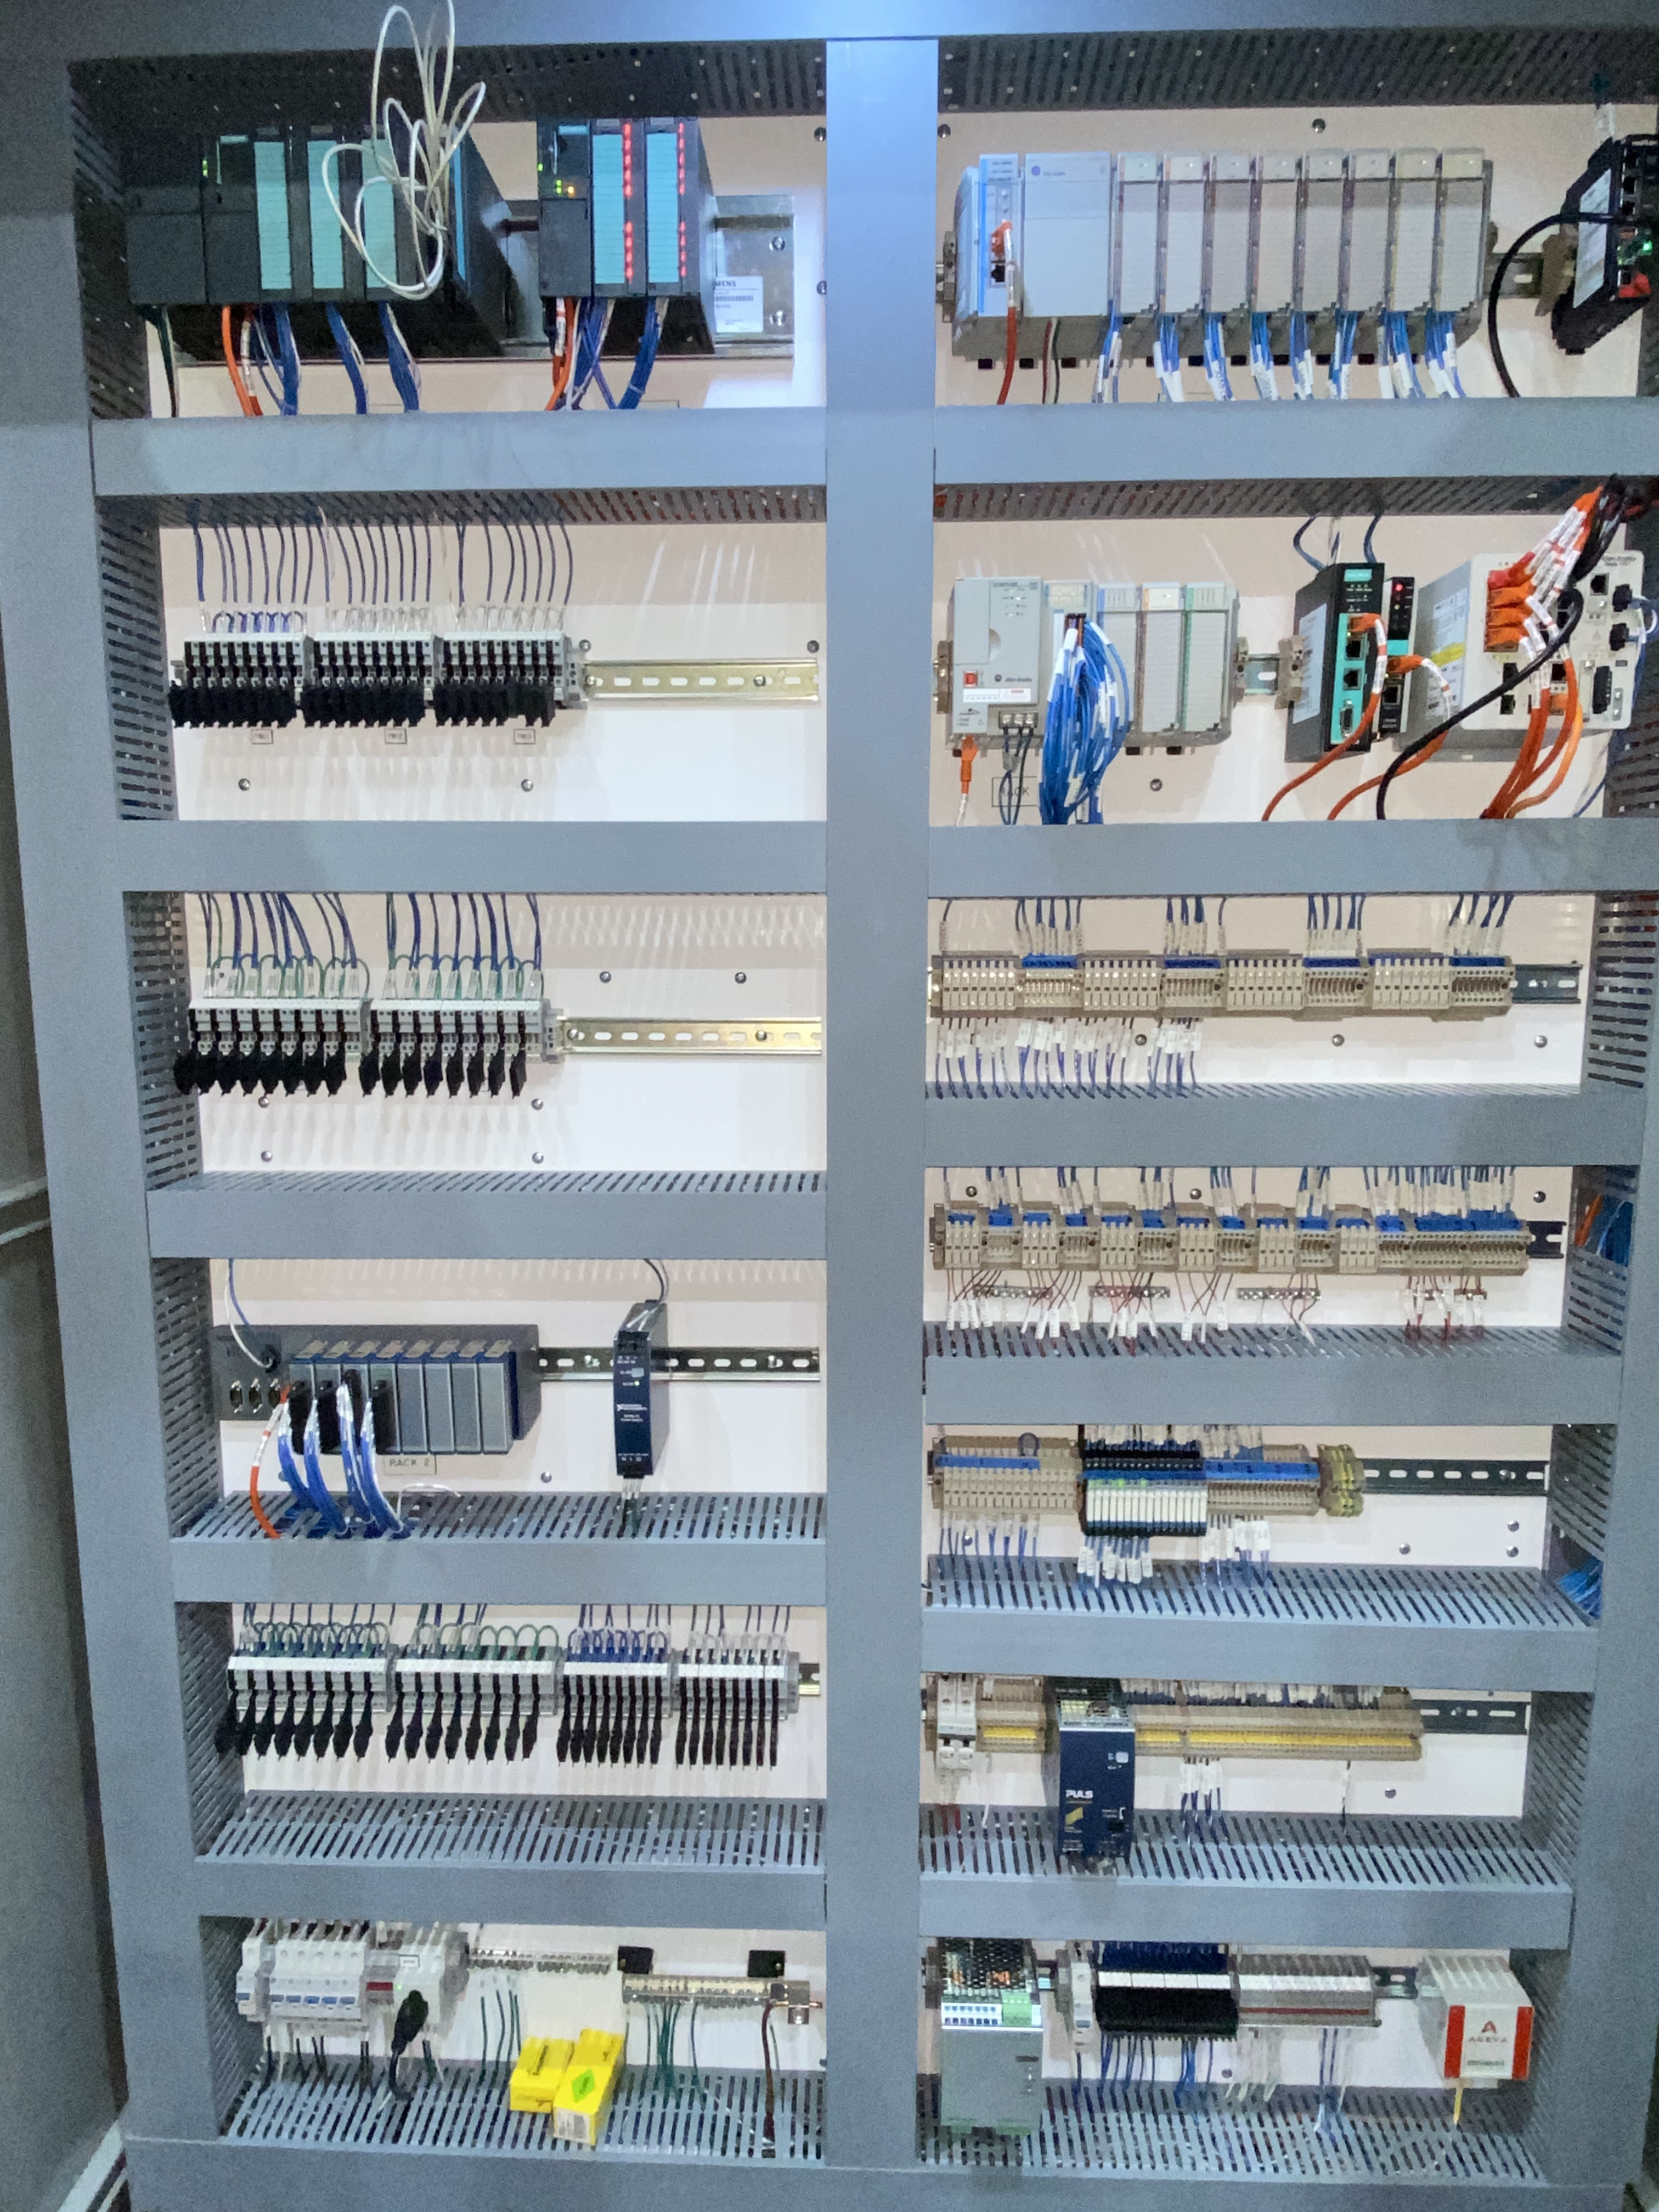AllenBradley: (948, 573, 1040, 737)
Siemens: (199, 134, 261, 305)
